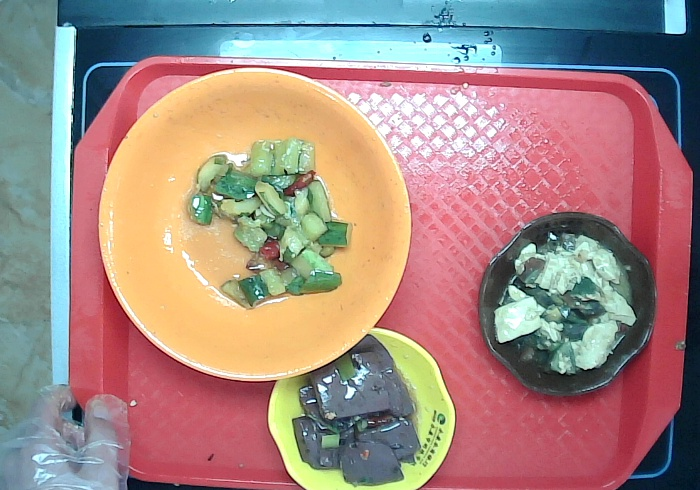YKMZ-Huang_Se_Ao_Bian_Wan: (266, 324, 459, 490)
YKMZ-Ju_Se_Tang_Wan: (98, 66, 414, 385)
YKMZ-Ka_Fei_Ao_Bian_Wan: (477, 209, 657, 399)
